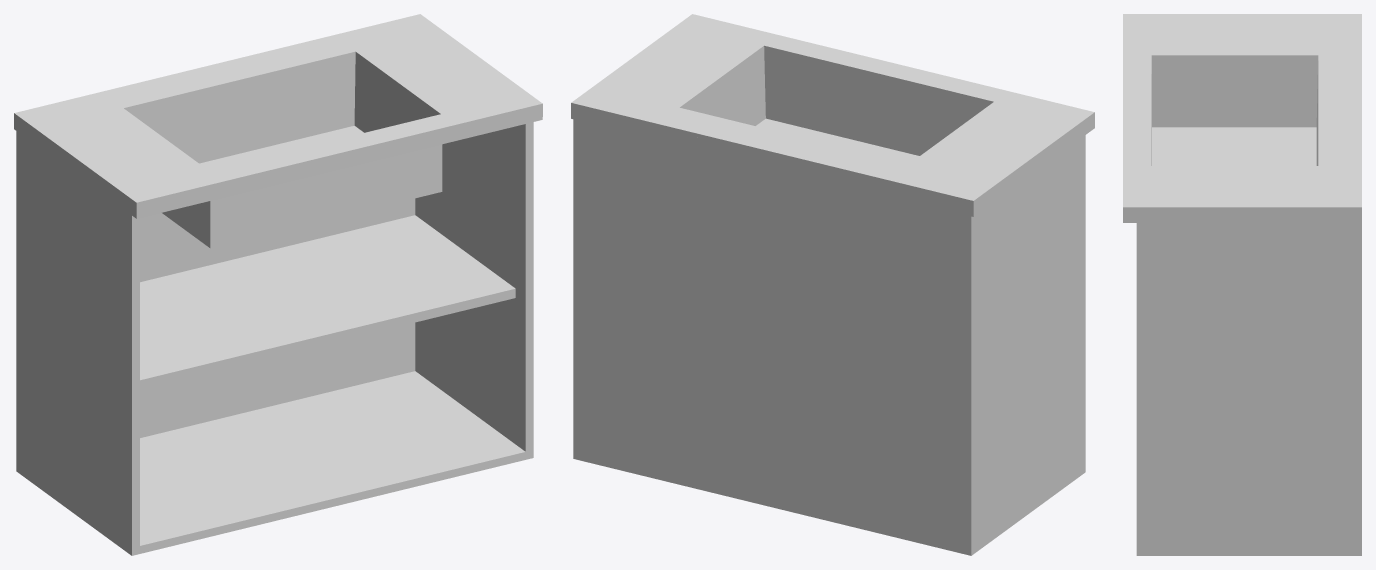
File: Bathroom_C1_08.fbx
The picture shows the model from 3 angles, left to right: view 1: azimuth 30°, elevation 25°; view 2: azimuth 150°, elevation 25°; view 3: azimuth 270°, elevation 25°; orthographic projection. The views are drawn at different scales.
Parts seen in each view (by area): view 1: Bathroom_C1_08; view 2: Bathroom_C1_08; view 3: Bathroom_C1_08.
Boxes of the visible parts, box(x1,y1,x2,y2) form: Bathroom_C1_08: box(14, 14, 542, 555); Bathroom_C1_08: box(571, 14, 1094, 555); Bathroom_C1_08: box(1123, 14, 1361, 555).
Size of the model in its own units: 91 by 76.82 by 47.51.
